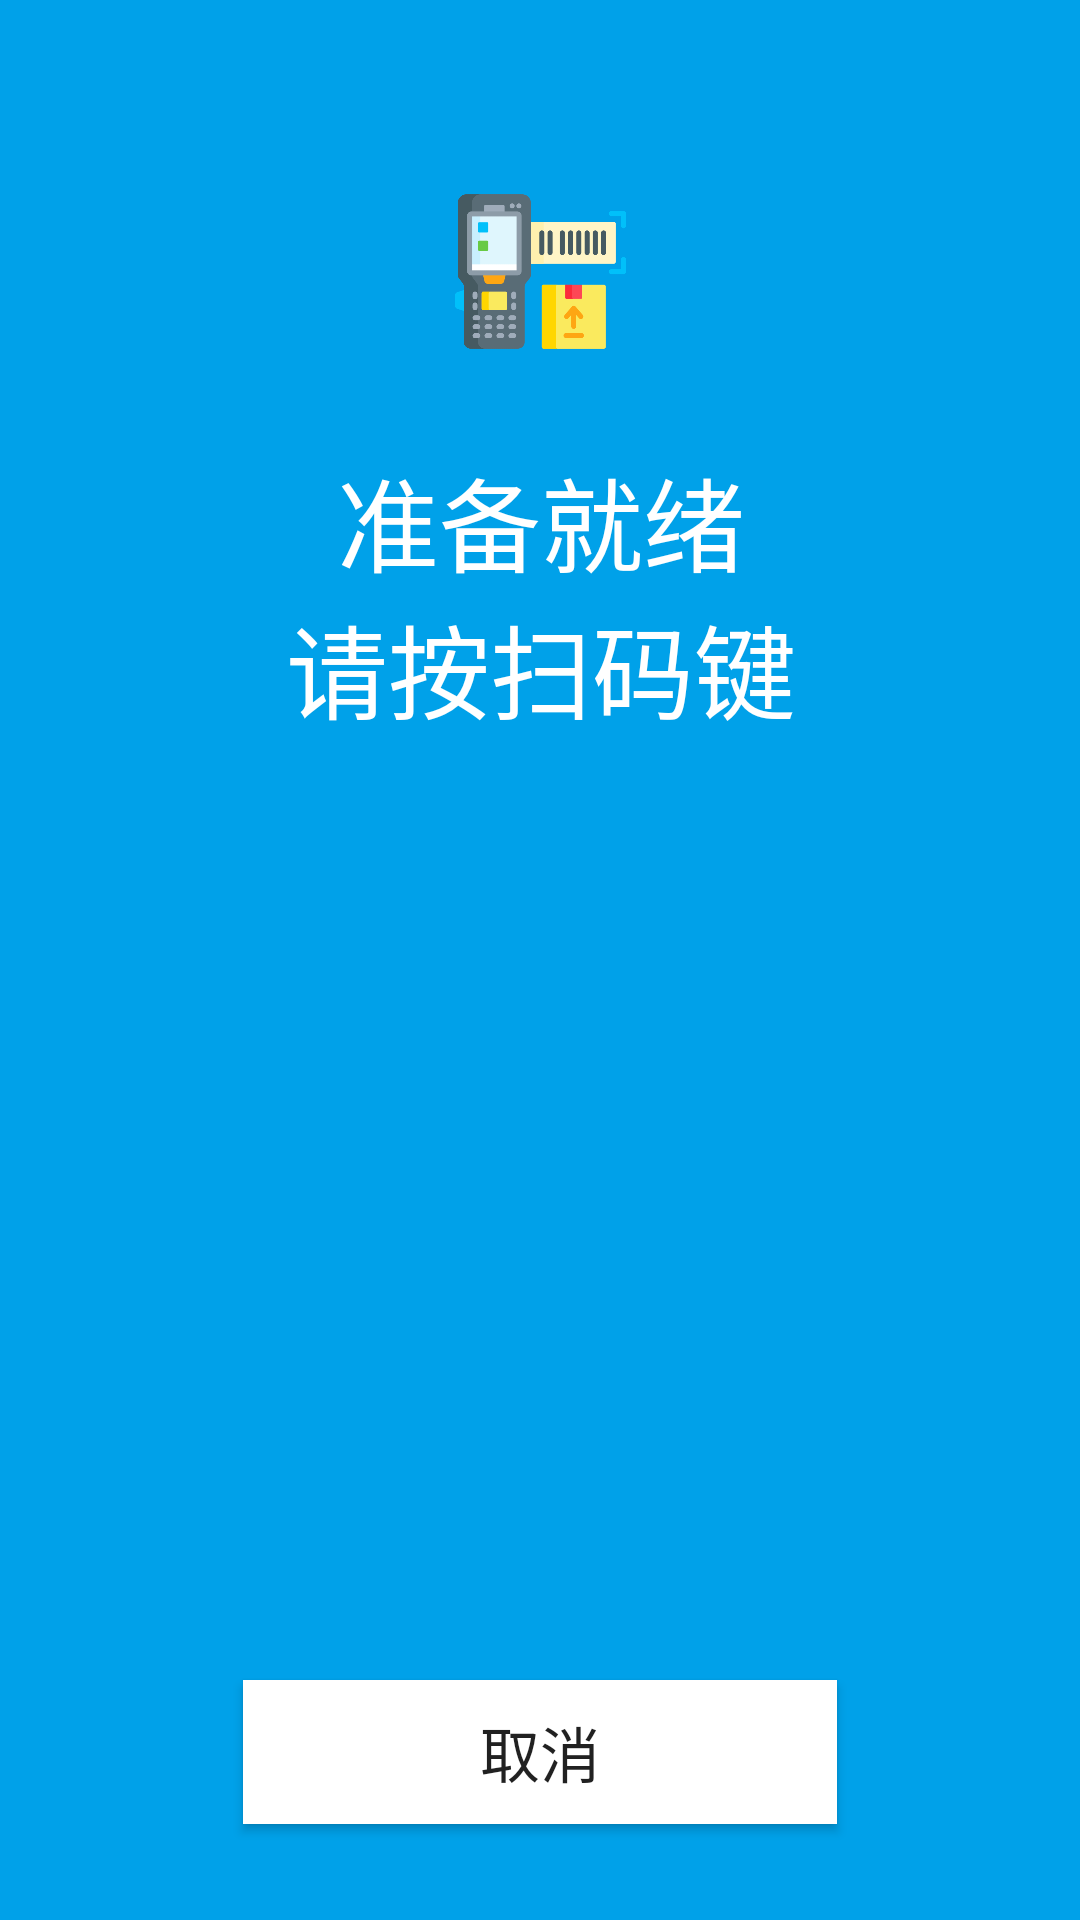

Screen size 1080px×1920px. Icon name, then its box in pixels as bbox=[x1, y1, x2, y2]:
扫码中: bbox=[455, 194, 626, 349]
